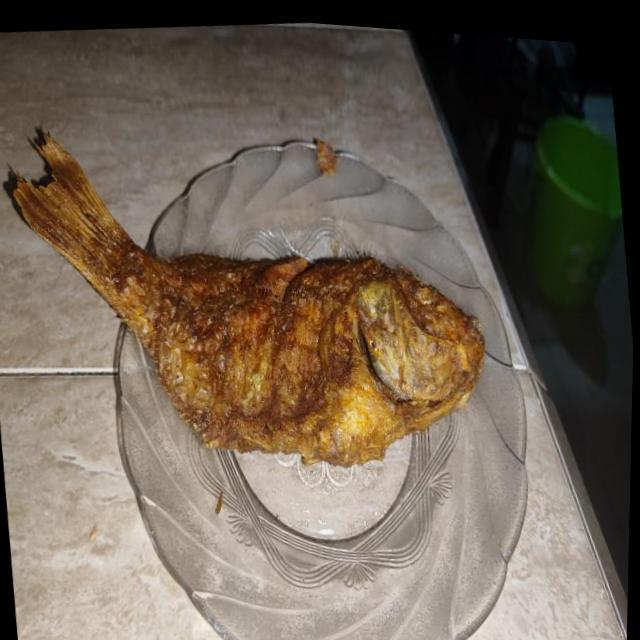ikan_mujair: (13, 136, 484, 467)
